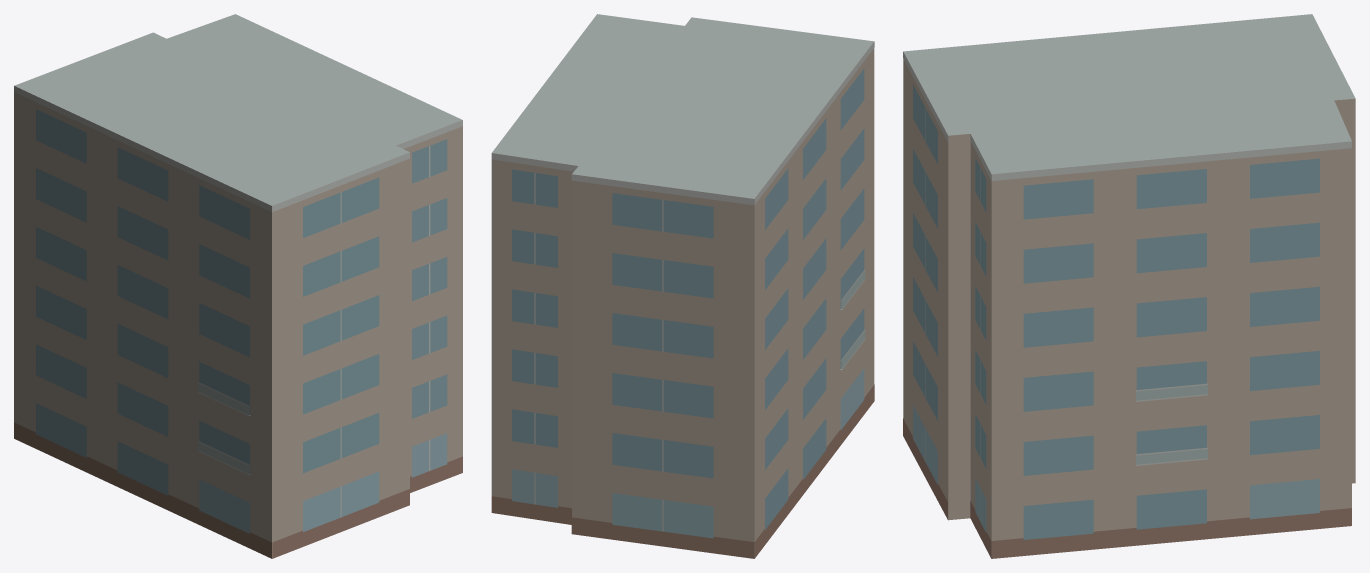
The model's file is survey-upis-32949186.glb.
The picture shows the model from 3 angles, left to right: view 1: azimuth 30°, elevation 25°; view 2: azimuth 150°, elevation 25°; view 3: azimuth 270°, elevation 25°; orthographic projection. The views are drawn at different scales.
Parts seen in each view (by area): view 1: survey-upis-32949186.tmp; view 2: survey-upis-32949186.tmp; view 3: survey-upis-32949186.tmp.
Boxes of the visible parts, x1,y1,x2,y2 form: survey-upis-32949186.tmp: [14, 14, 462, 558]; survey-upis-32949186.tmp: [491, 14, 874, 558]; survey-upis-32949186.tmp: [903, 14, 1355, 558].
Bounding box in the file's own units: 12.35 × 13.8 × 14.73.
